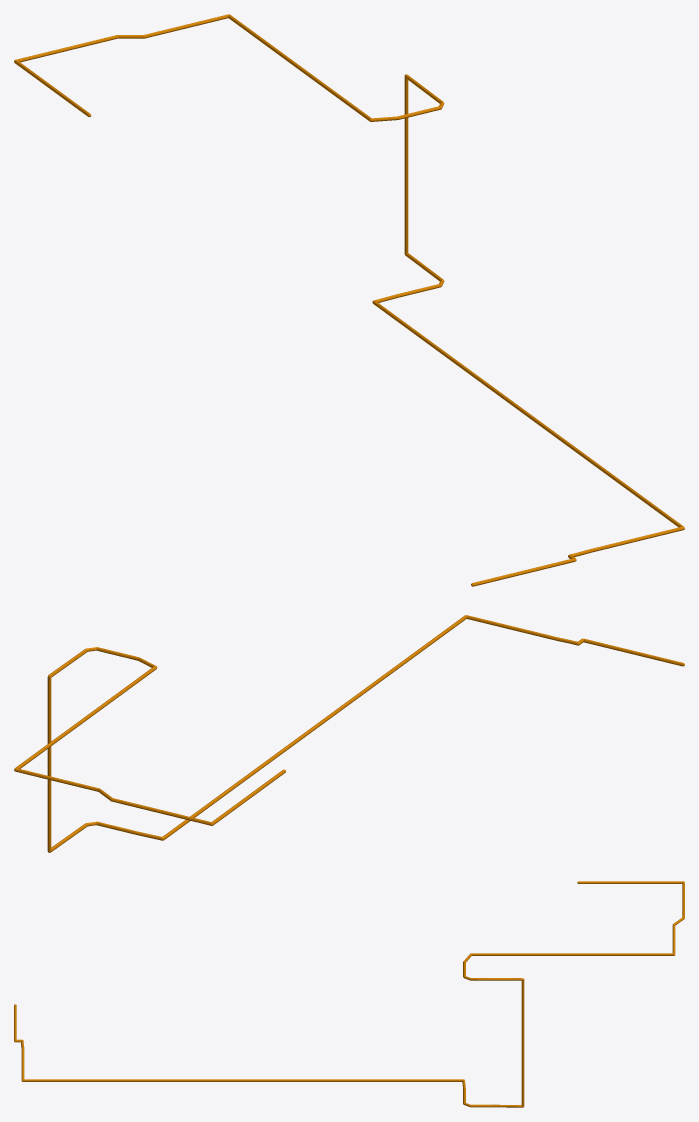
3 views of the same model, one above another, from view 1: azimuth 30°, elevation 25°; view 2: azimuth 150°, elevation 25°; view 3: azimuth 270°, elevation 25° (orthographic). The views are drawn at different scales.
Bounding box in the file's own units: 1723 × 1020 × 4797.
